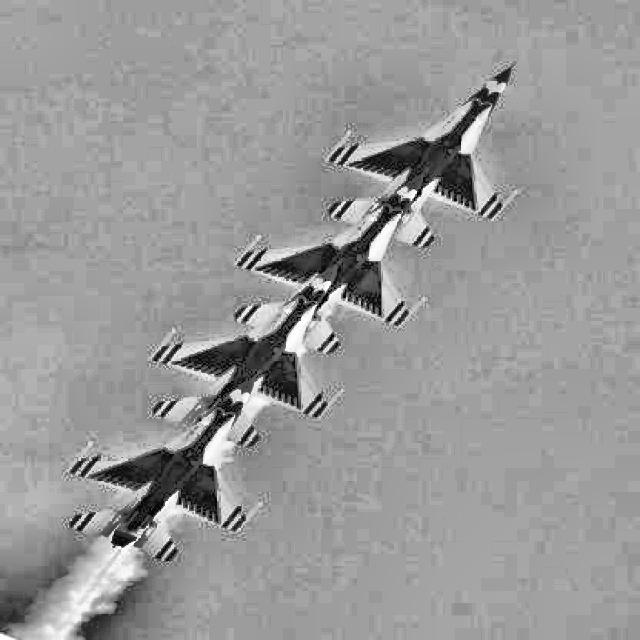F16: (147, 257, 344, 448), (63, 372, 259, 562), (232, 168, 430, 355), (325, 62, 518, 248)
